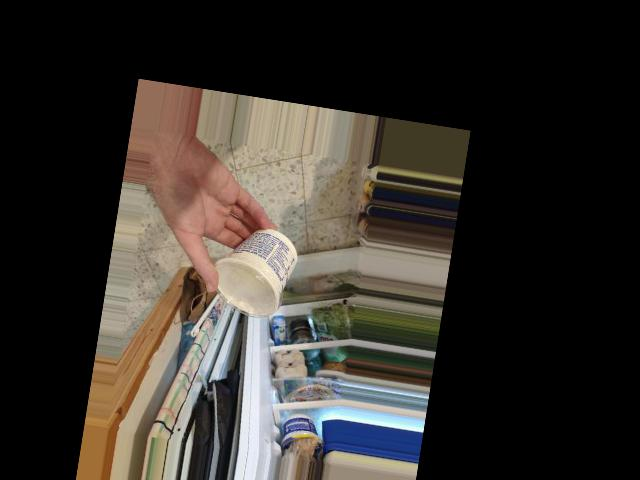cotage: (217, 225, 297, 320)
